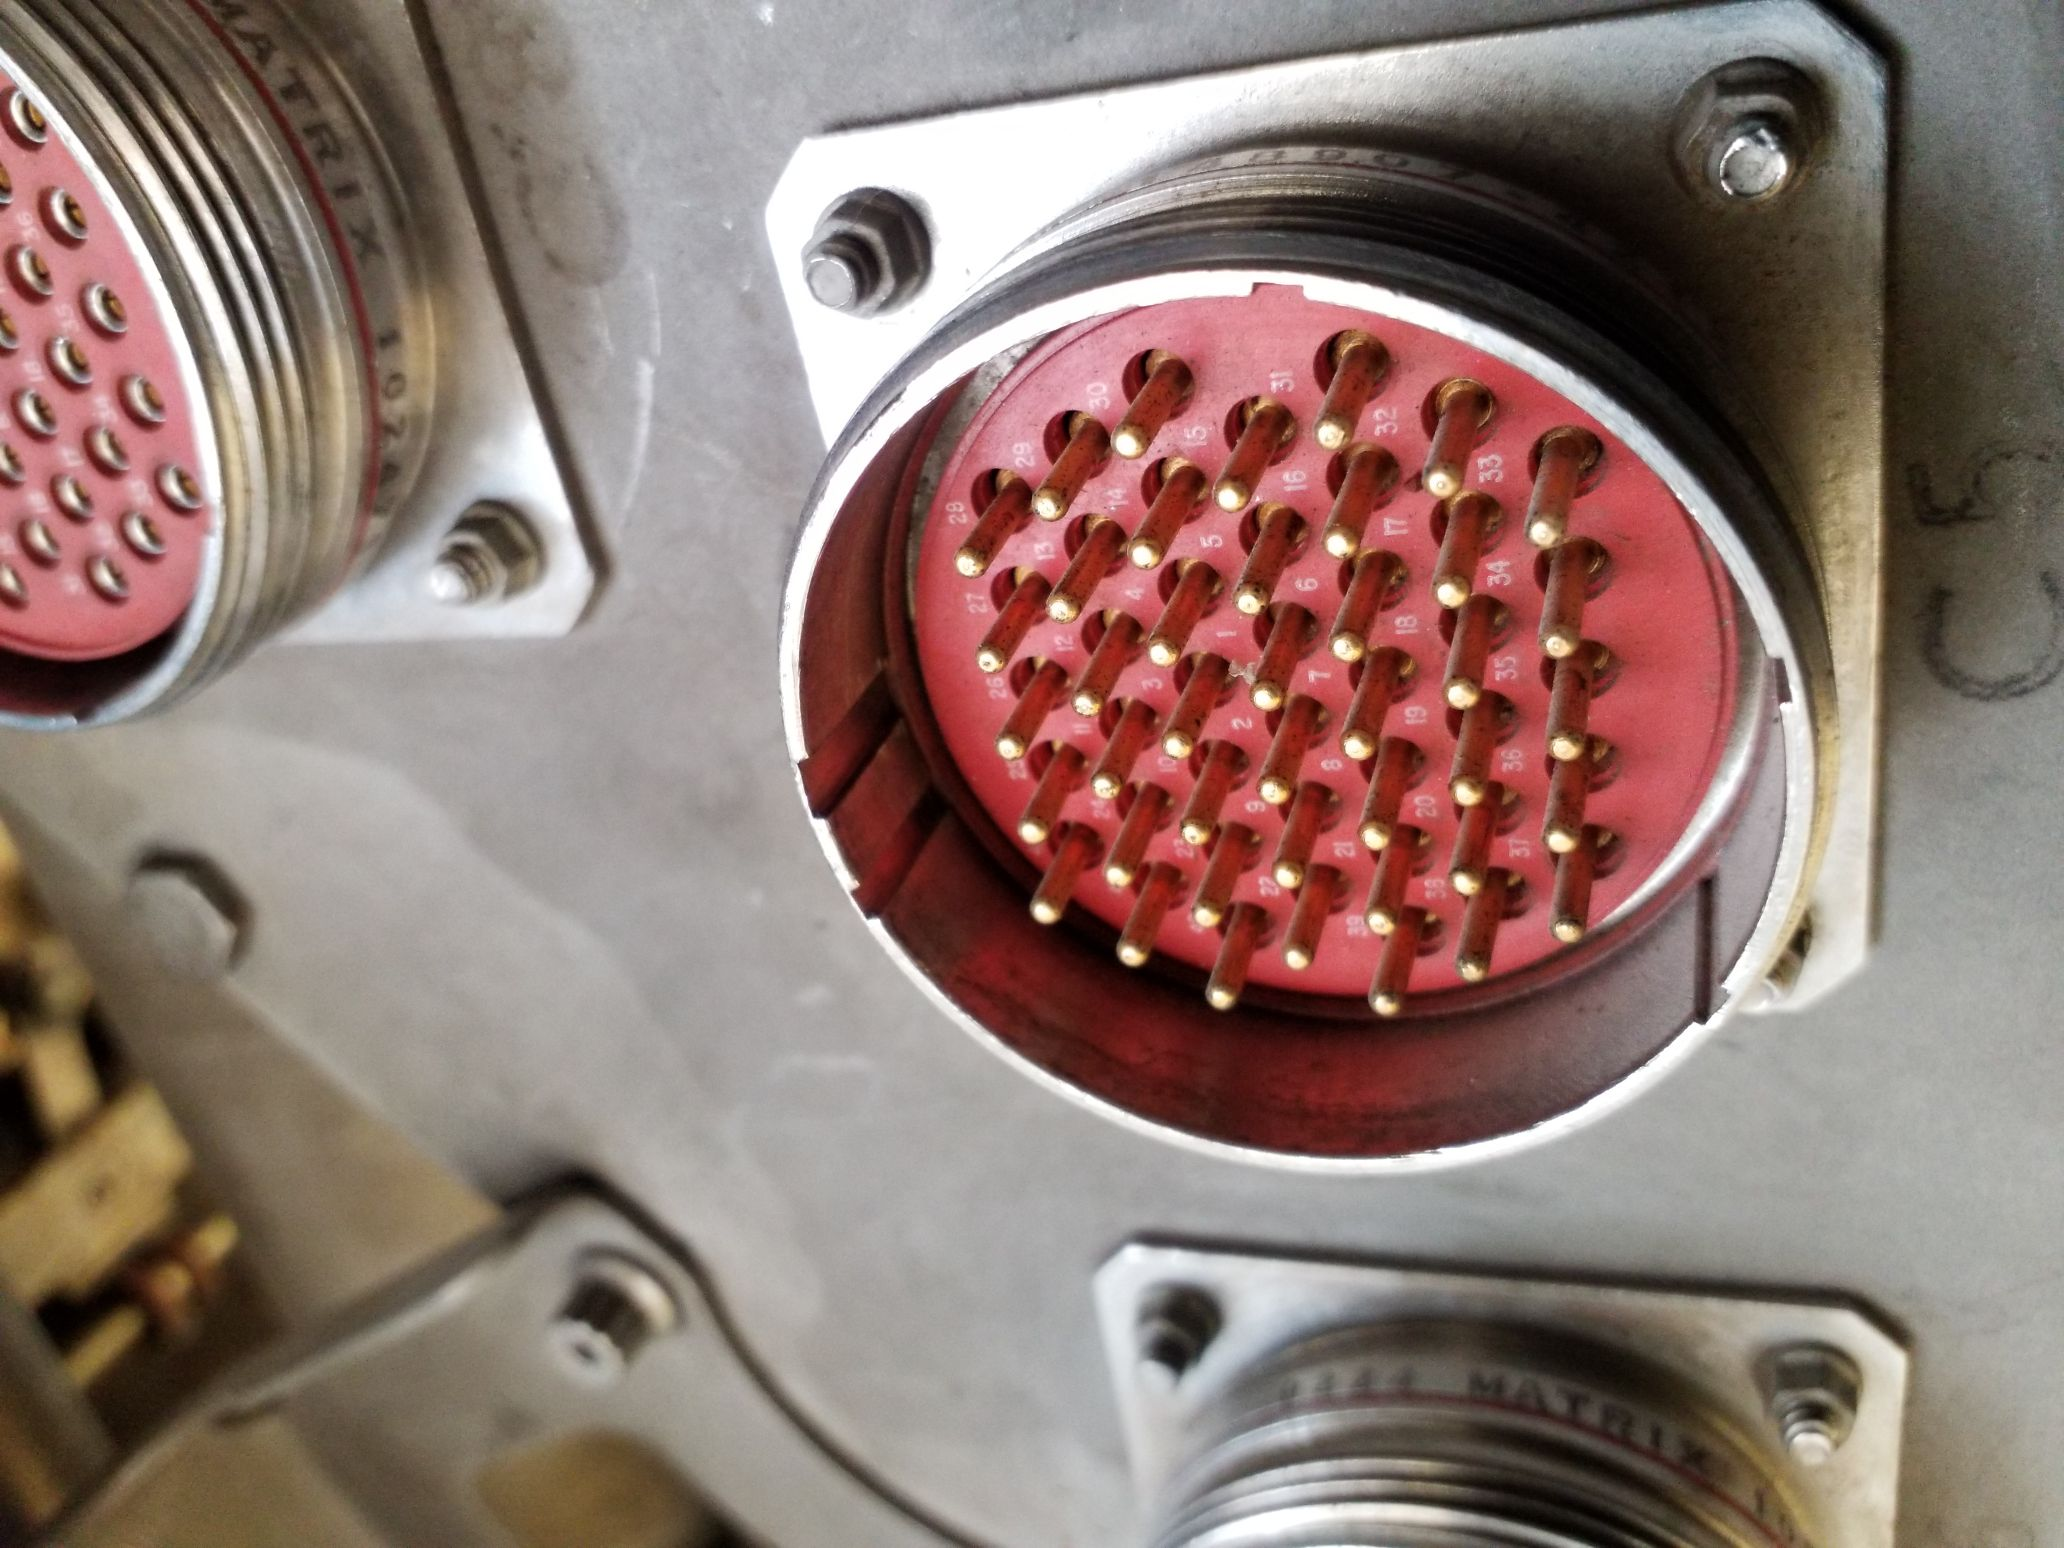outlet: (774, 172, 1854, 1177)
